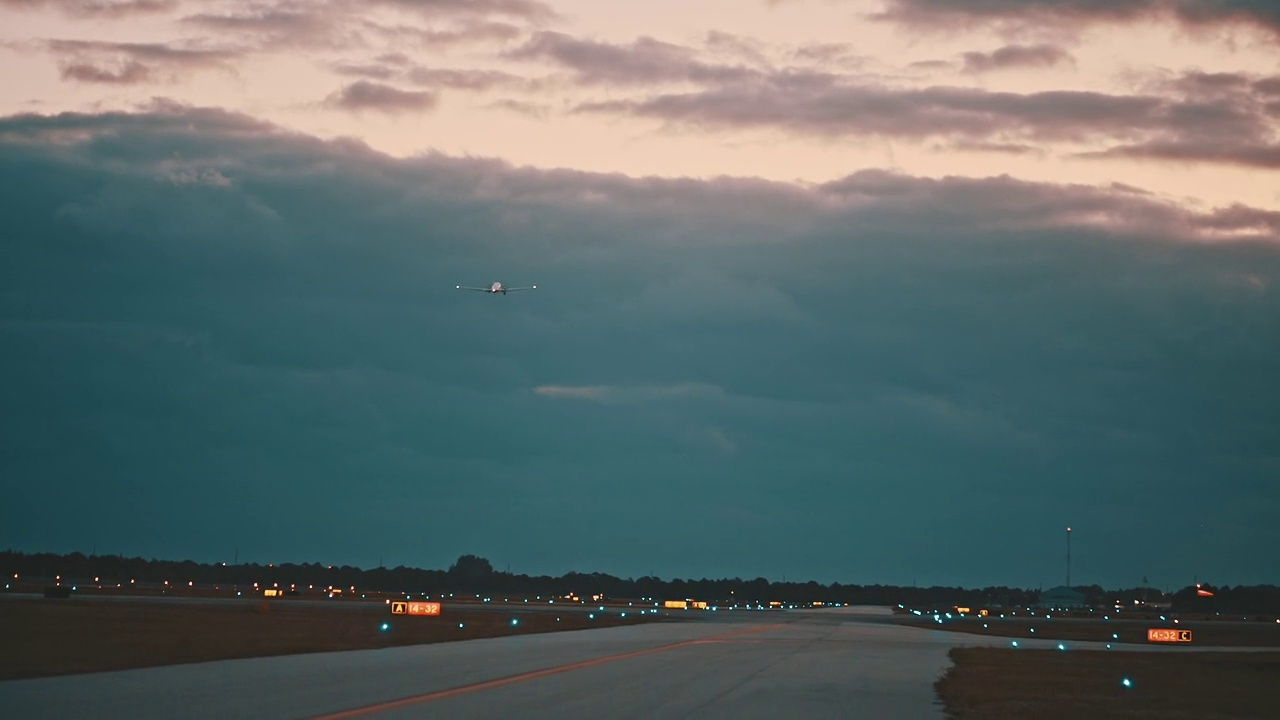plane: (453, 278, 536, 297)
